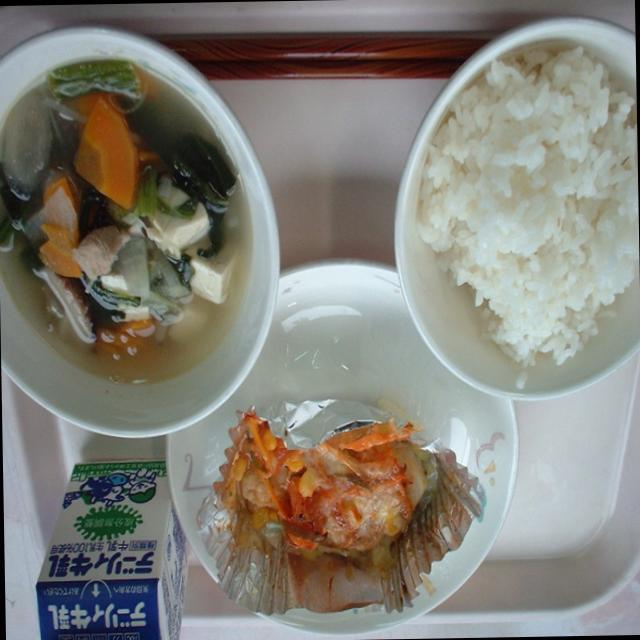Rice: (398, 17, 640, 398)
